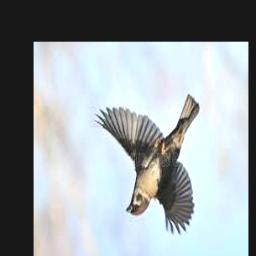Sparrow: (94, 94, 199, 237)
